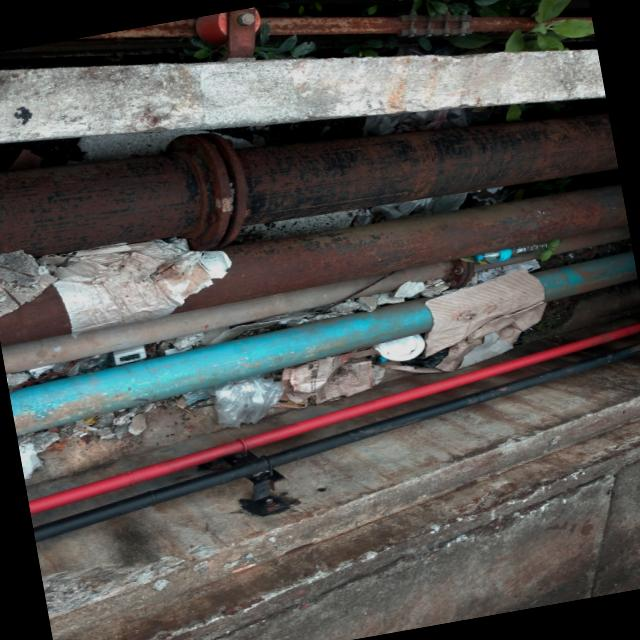gas: (0, 59, 619, 284), (2, 251, 640, 443), (0, 171, 629, 345)
